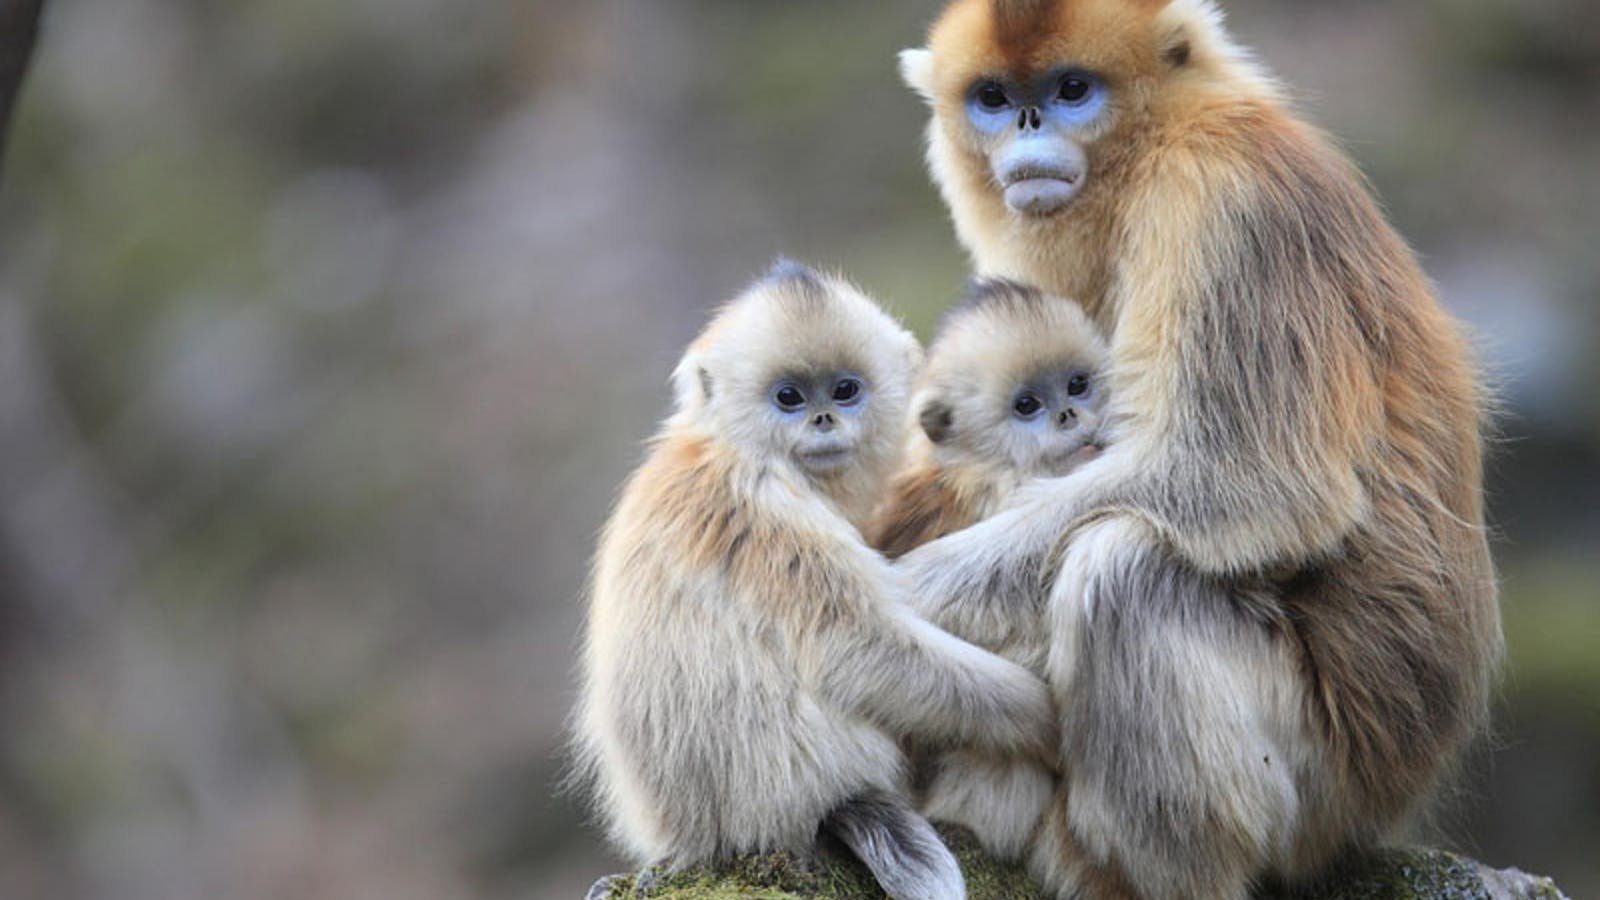monkey: (875, 0, 1516, 897), (554, 237, 1038, 900), (867, 265, 1145, 851)
